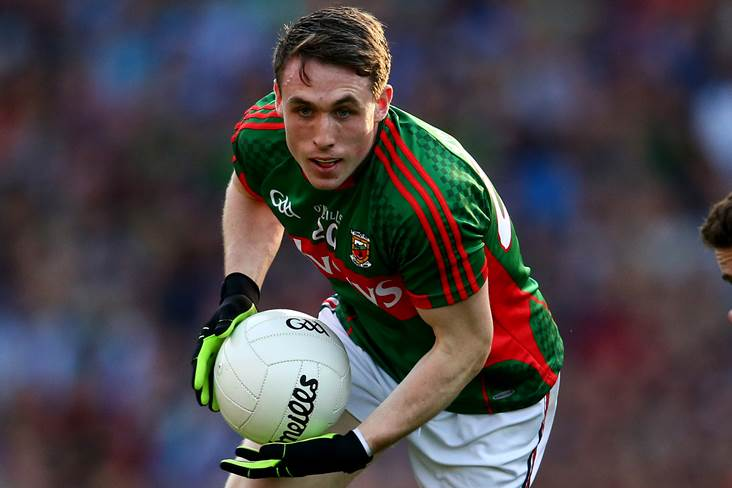ball: (217, 312, 343, 441)
player: (213, 7, 557, 476)
